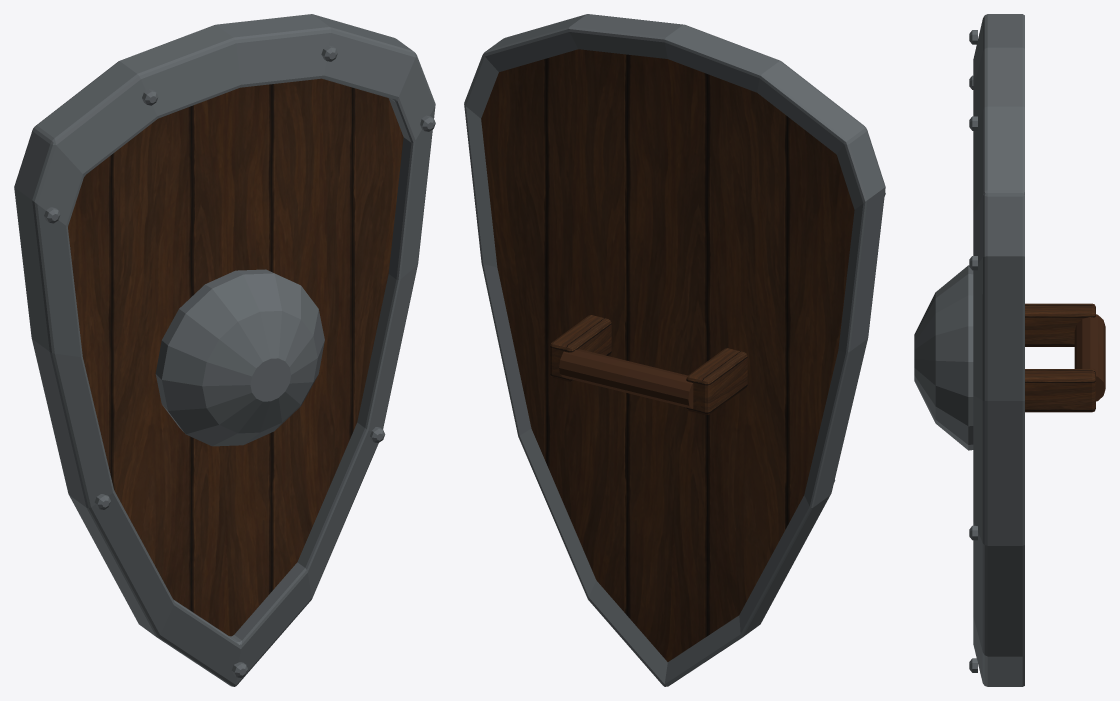
The model's file is WarriorShield.glb.
The picture shows the model from 3 angles, left to right: view 1: azimuth 30°, elevation 25°; view 2: azimuth 150°, elevation 25°; view 3: azimuth 270°, elevation 25°; orthographic projection.
Parts seen in each view (by area): view 1: Shield body, Reinforced rim, Central reinforcement; view 2: Shield body, Reinforced rim, Rear hand grip, Rear grip mounting block, Rear grip mounting block.001; view 3: Reinforced rim, Central reinforcement, Rear grip mounting block.001, Rear grip mounting block, Rear hand grip.
Boxes of the visible parts, bbox=[...] form: Shield body: bbox=[68, 78, 403, 636]; Reinforced rim: bbox=[14, 14, 435, 686]; Central reinforcement: bbox=[155, 269, 324, 446]; Shield body: bbox=[481, 49, 854, 661]; Reinforced rim: bbox=[464, 14, 885, 686]; Rear hand grip: bbox=[559, 349, 693, 408]; Rear grip mounting block: bbox=[686, 348, 747, 414]; Rear grip mounting block.001: bbox=[550, 315, 611, 381]; Reinforced rim: bbox=[973, 14, 1024, 686]; Central reinforcement: bbox=[914, 265, 973, 450]; Rear grip mounting block.001: bbox=[1025, 369, 1095, 412]; Rear grip mounting block: bbox=[1025, 303, 1095, 346]; Rear hand grip: bbox=[1074, 314, 1105, 401].
Size of the model in its own units: 0.2369 by 0.3649 by 0.099.
Materials: 2 (1 with a texture image).
